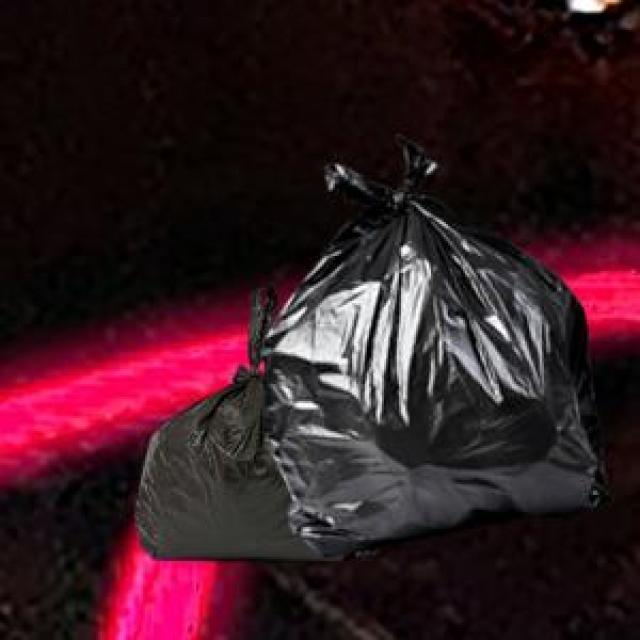Trashbag: (256, 123, 615, 553), (120, 375, 290, 568)
